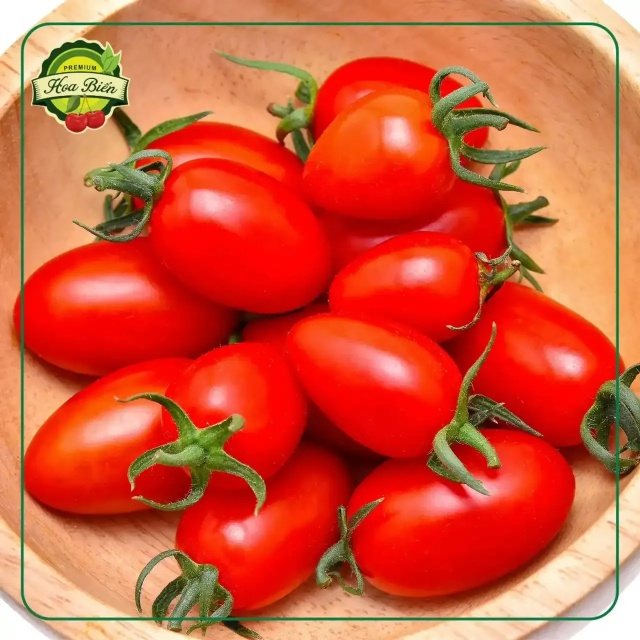ca_chua: (342, 429, 575, 598), (15, 239, 236, 379), (177, 444, 353, 618), (146, 156, 332, 316), (24, 355, 206, 516), (457, 284, 629, 446), (163, 340, 307, 488), (304, 92, 457, 221), (312, 55, 494, 157), (329, 232, 480, 340), (130, 120, 311, 208)
